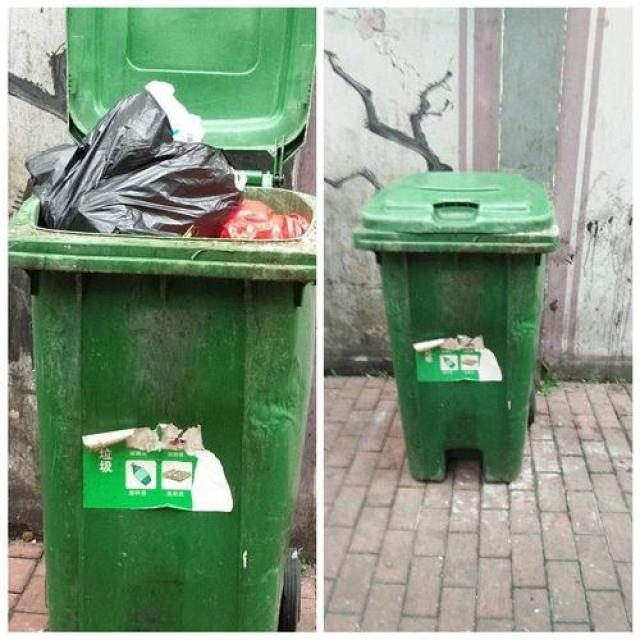garbage_bin: (351, 170, 557, 482)
overflow: (8, 80, 315, 628)
